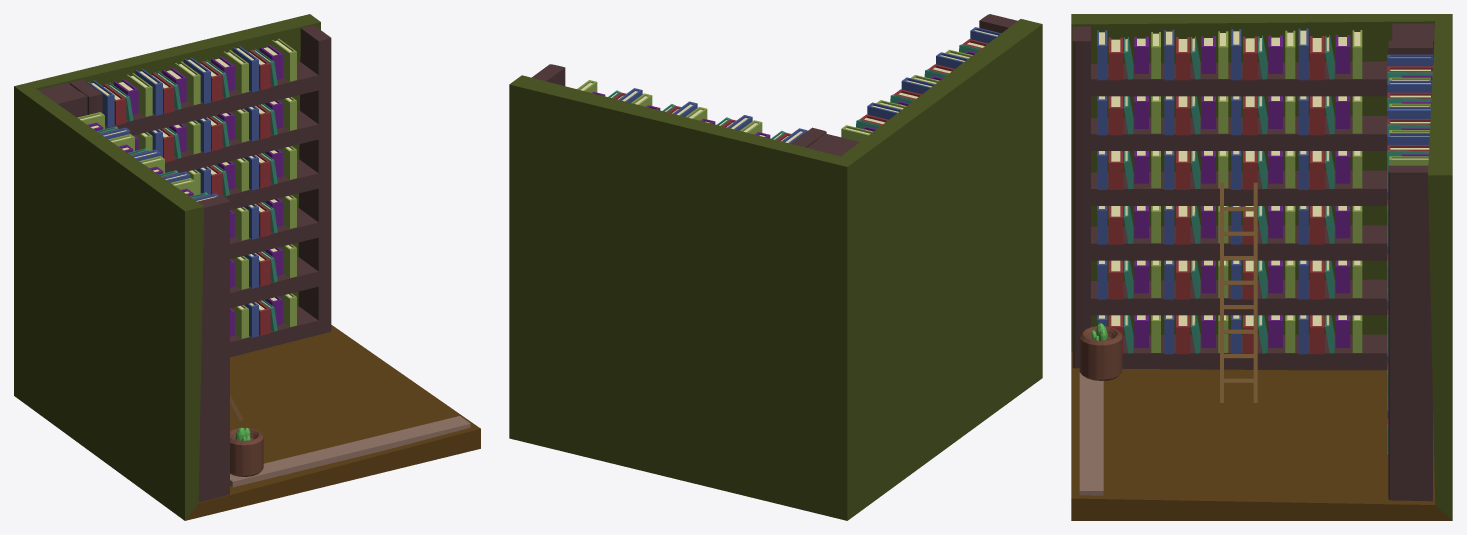
File: library.glb
3 views of the same model, side by side, from view 1: azimuth 30°, elevation 25°; view 2: azimuth 150°, elevation 25°; view 3: azimuth 270°, elevation 25° (orthographic). The views are drawn at different scales.
Parts seen in each view (by area): view 1: Room, Cube.001, Cube, Room.001, Cylinder; view 2: Room, Cube, Cube.001; view 3: Cube, Room, Cube.001, Cube.003, Room.001, Cylinder.
Boxes of the visible parts, x1,y1,x2,y2 form: Room: [14, 14, 480, 520]; Cube.001: [69, 25, 331, 357]; Cube: [38, 83, 229, 502]; Room.001: [230, 416, 470, 487]; Cylinder: [230, 427, 263, 476]; Room: [509, 19, 1042, 520]; Cube: [807, 14, 1017, 156]; Cube.001: [532, 64, 826, 147]; Cube: [1072, 23, 1434, 370]; Room: [1071, 14, 1452, 520]; Cube.001: [1387, 40, 1432, 501]; Cube.003: [1220, 182, 1257, 402]; Room.001: [1079, 372, 1103, 495]; Cylinder: [1079, 326, 1122, 380].
Size of what is drawn, in the model's own units: 6.47 by 6.47 by 6.47.
